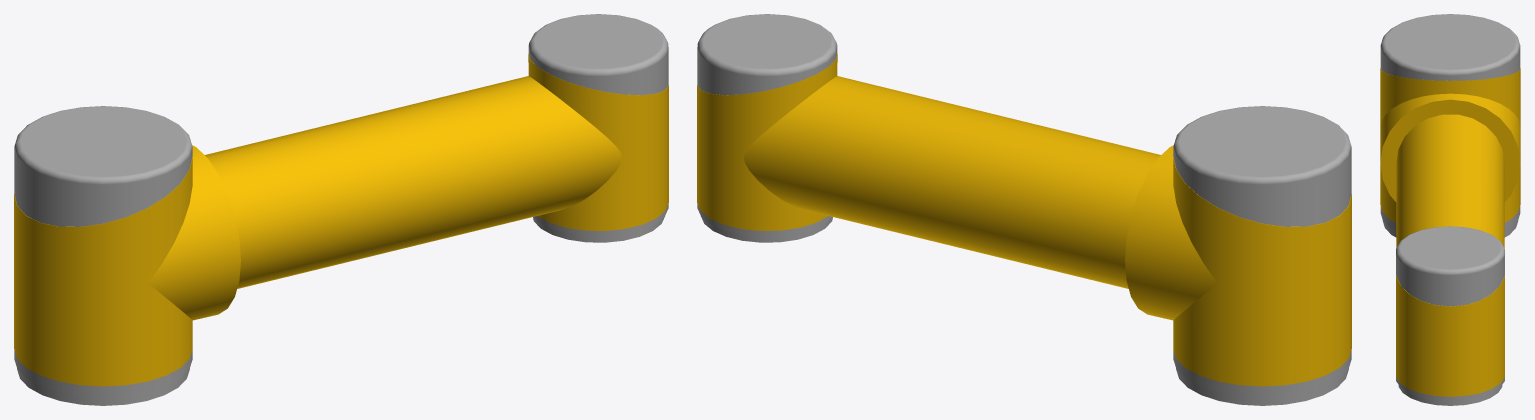
The picture shows the model from 3 angles, left to right: view 1: azimuth 30°, elevation 25°; view 2: azimuth 150°, elevation 25°; view 3: azimuth 270°, elevation 25°; orthographic projection. The views are drawn at different scales.
Parts seen in each view (by area): view 1: NONE; view 2: NONE; view 3: NONE.
Part boxes in pixels (x1,y1,x2,y2): NONE: (14,14,668,405); NONE: (697,14,1351,405); NONE: (1380,14,1520,405).
Bounding box in the file's own units: 0.614 × 0.211 × 0.15.
